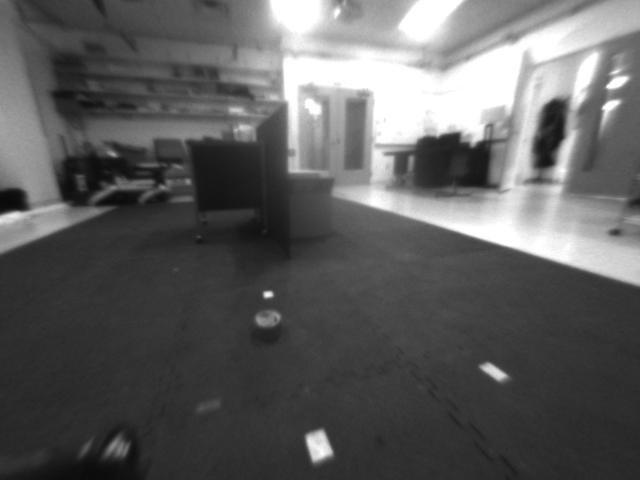dogtoy: (235, 300, 295, 349)
